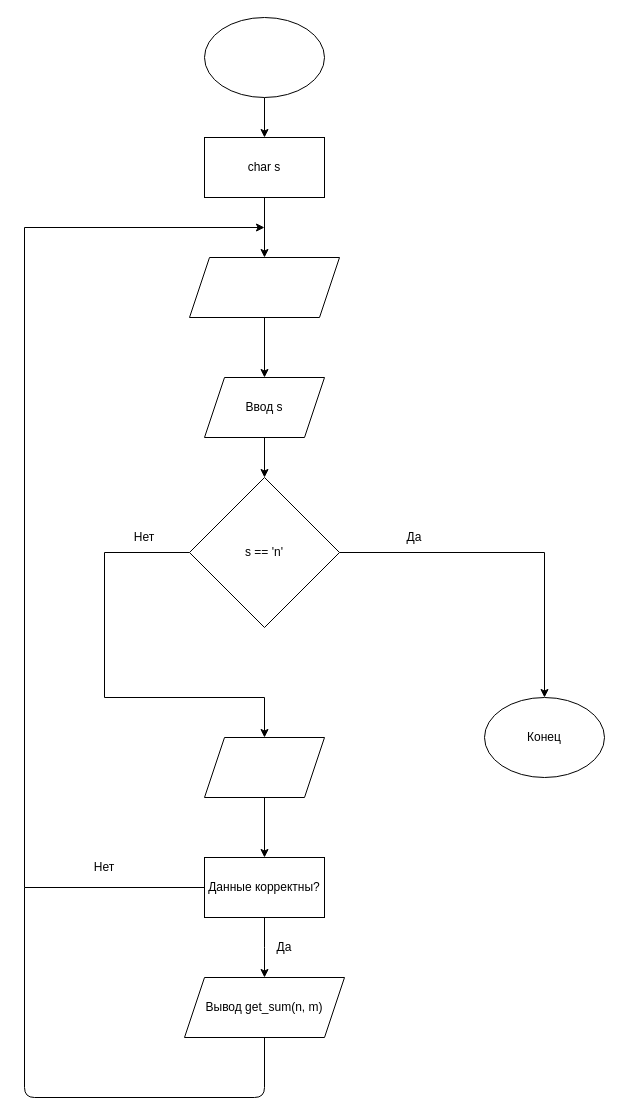
Some shapes in this 622 by 1116 pixel diagram are drawn without their labels. The box of each missing label's shape, as (x1, y1, x2, y2) in pixels:
Ввод n и m: (204, 736, 324, 798)
Начало: (204, 16, 324, 98)
Продолжить работу?: (188, 256, 340, 318)
